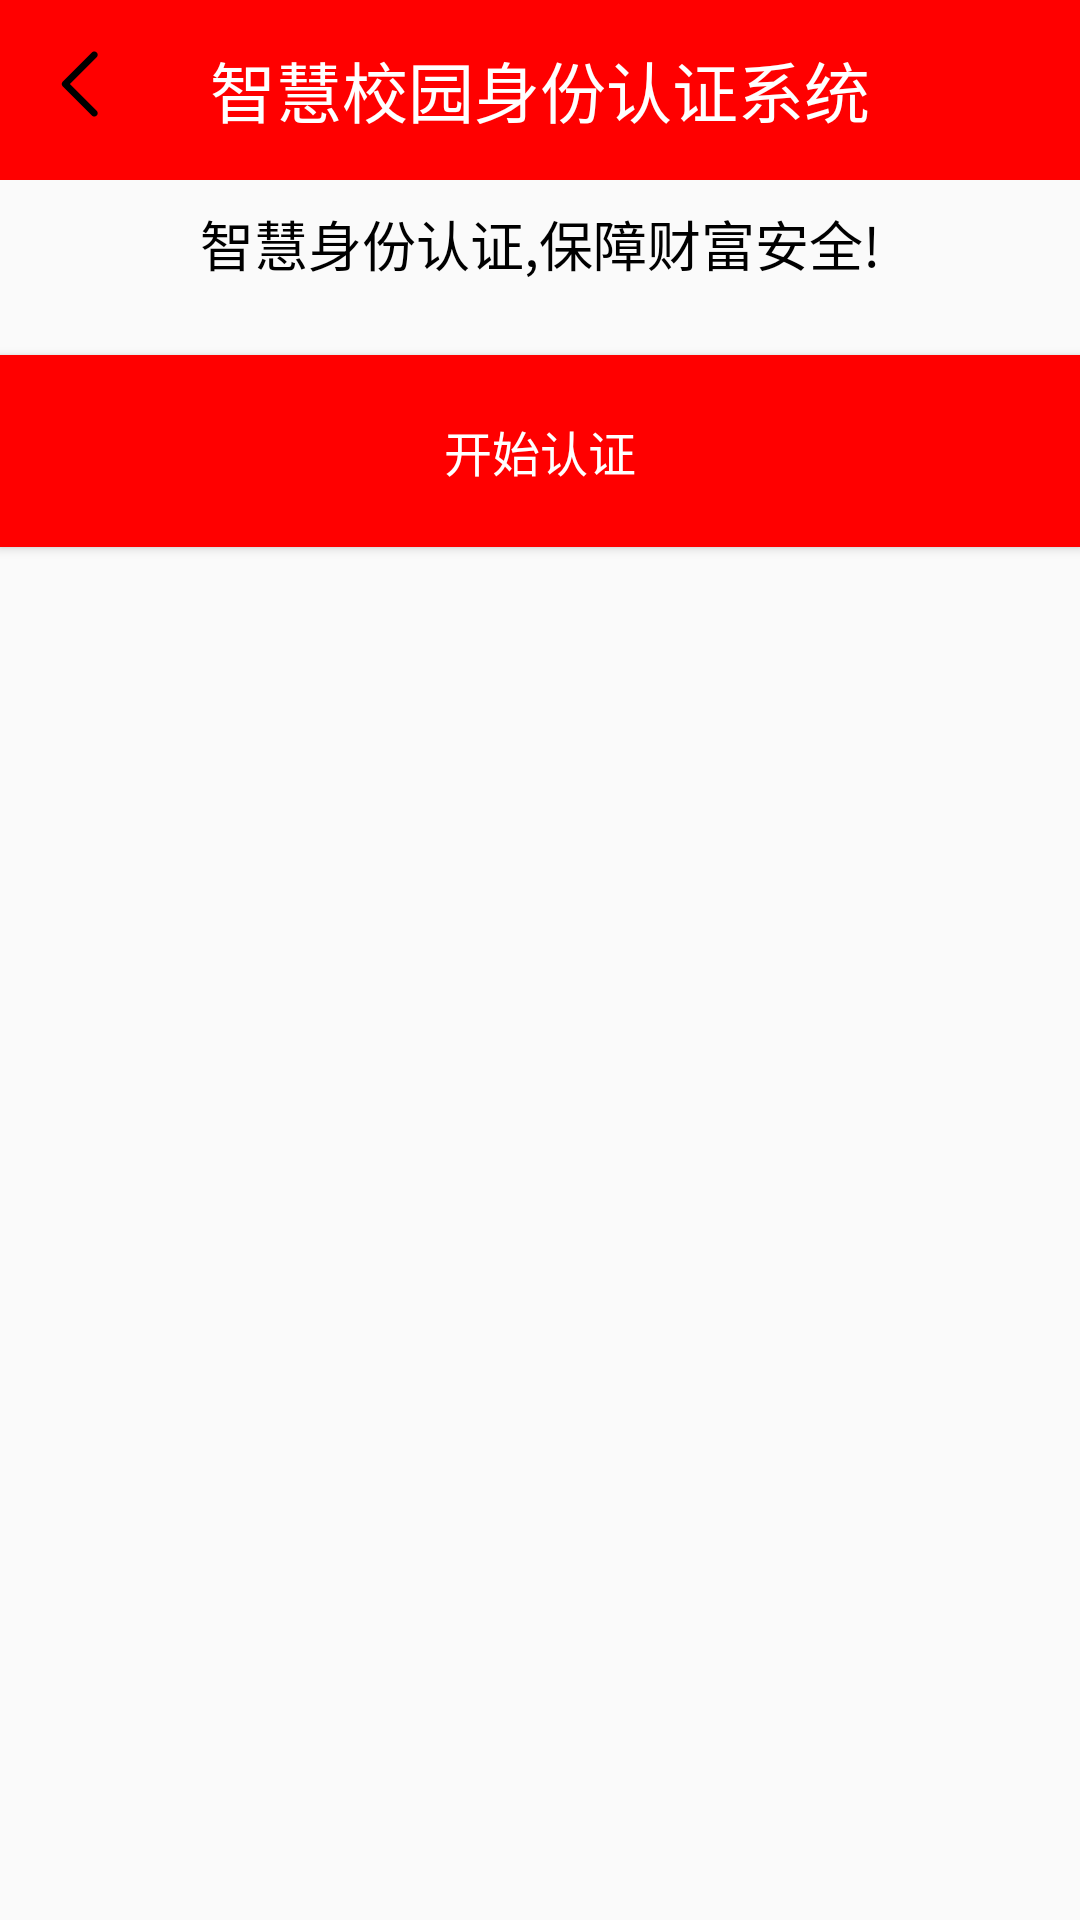

Screen size 1080x1920. Icon name, then its box in pixels as (x1, y1, x2, y2):
back: (61, 51, 98, 117)
